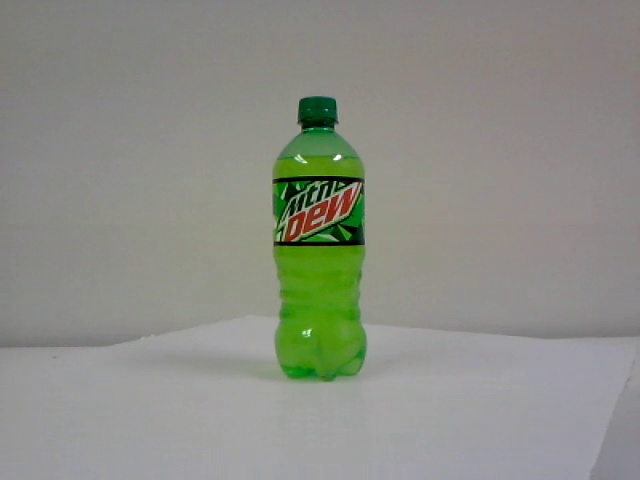botolplastik: (273, 98, 365, 380)
